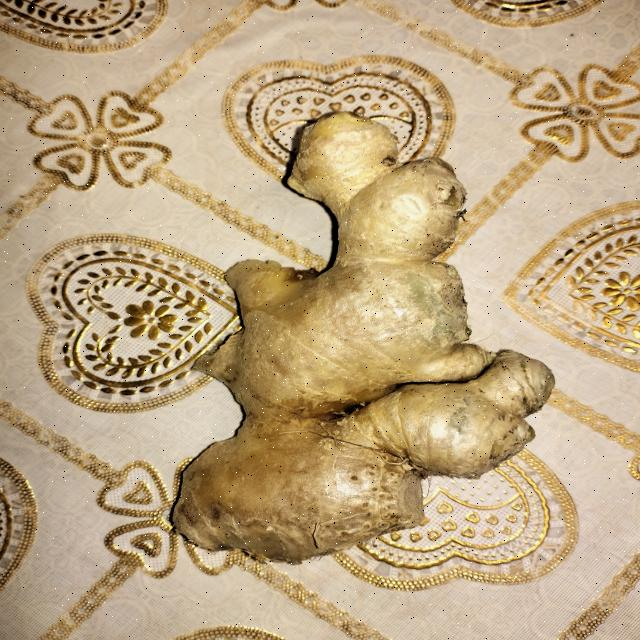ginger: (167, 96, 536, 563)
